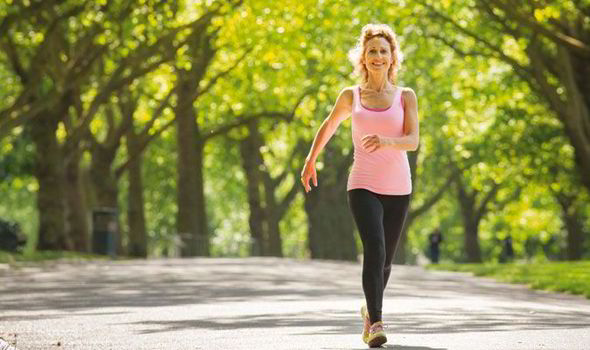feet: (345, 287, 396, 350)
